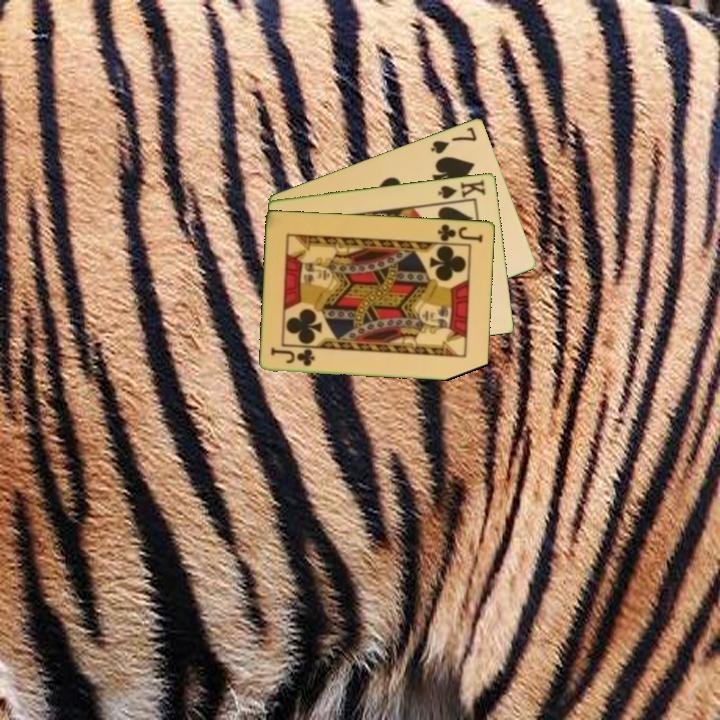7s: (427, 123, 480, 157)
Jc: (434, 220, 486, 245), (268, 345, 318, 369)
Ks: (435, 175, 489, 201)
